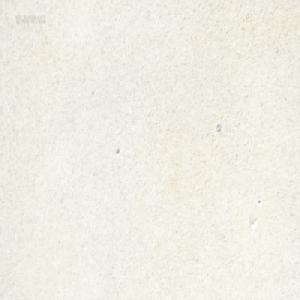Washer: (215, 122, 221, 132)
